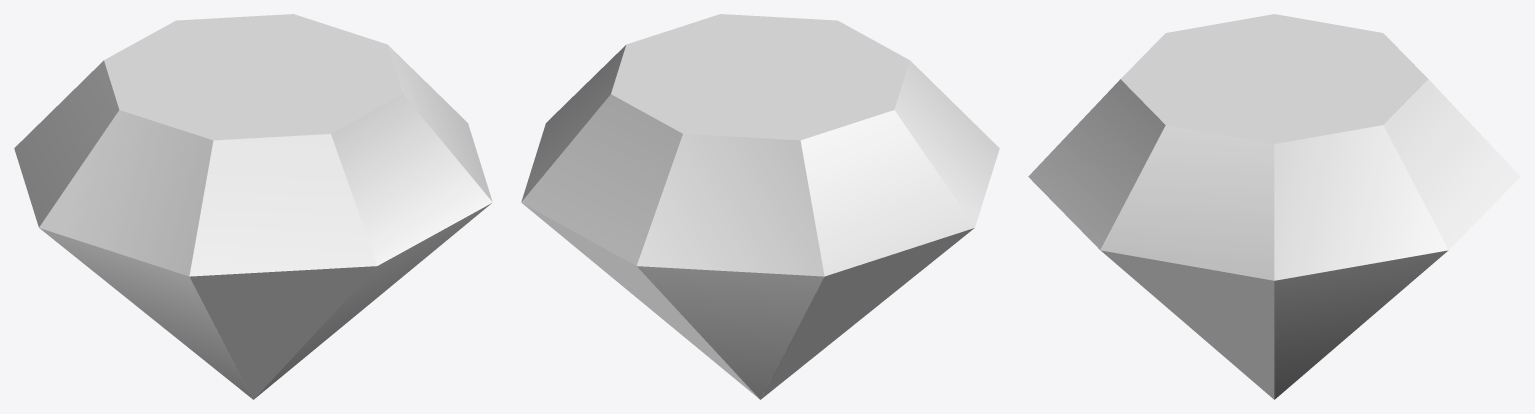
The model's file is diamond.gltf.
3 views of the same model, side by side, from view 1: azimuth 30°, elevation 25°; view 2: azimuth 150°, elevation 25°; view 3: azimuth 270°, elevation 25° (orthographic).
Parts seen in each view (by area): view 1: Diamond; view 2: Diamond; view 3: Diamond.
Part boxes in pixels (left/top/right/bottom): Diamond: left=14, top=14, right=492, bottom=399; Diamond: left=521, top=14, right=999, bottom=399; Diamond: left=1028, top=14, right=1520, bottom=399.
Size of the model in its own units: 1.6 by 1.15 by 1.6.
Materials: 1 (1 with a texture image).
